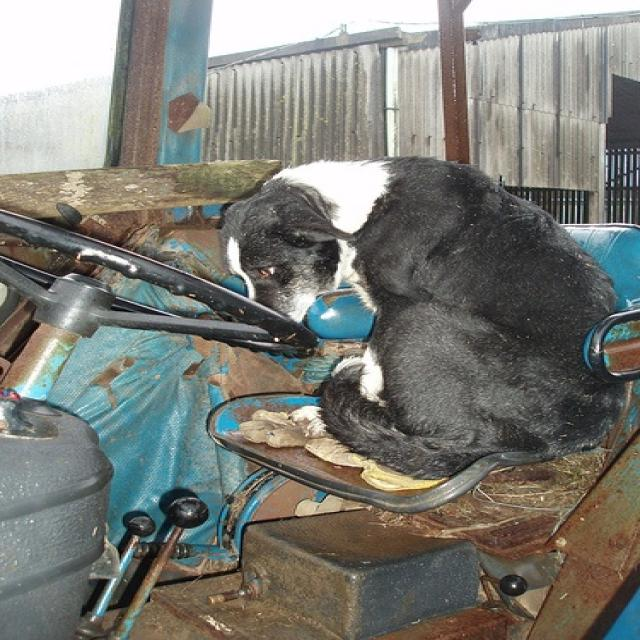dog: (215, 156, 628, 481)
